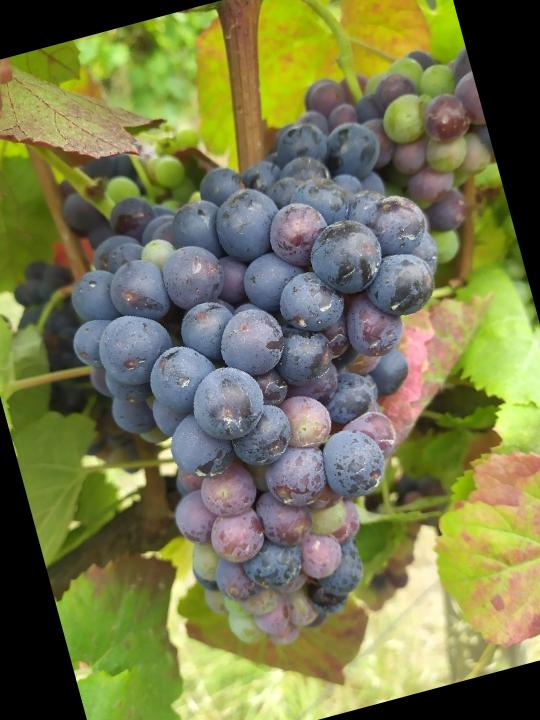grape: (25, 101, 527, 680)
